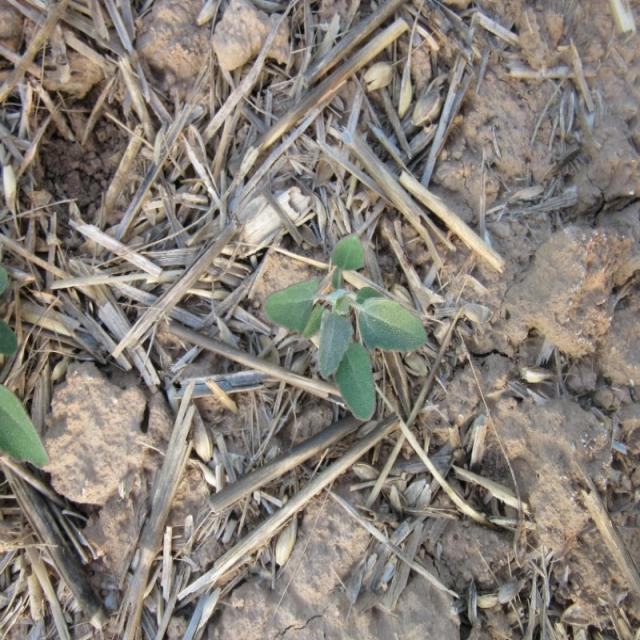ca: (266, 240, 429, 419)
